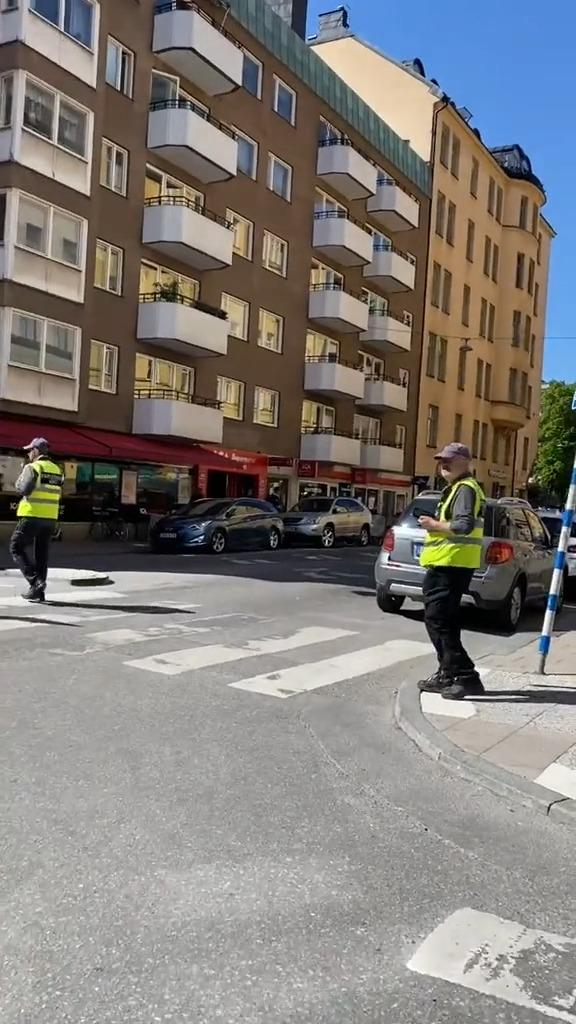parking-attendant: (419, 442, 485, 699), (10, 438, 62, 602)
